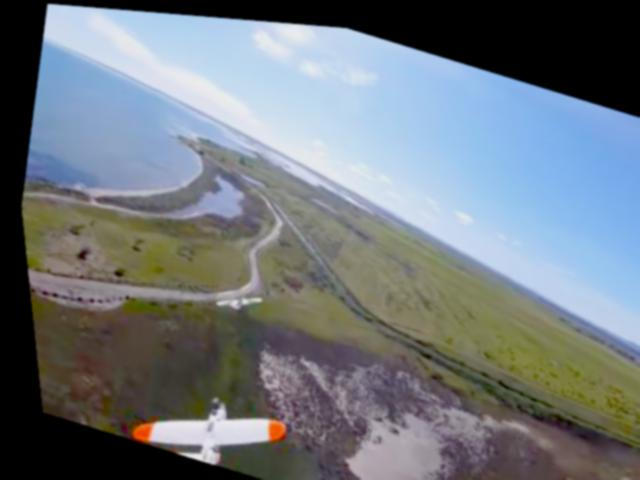uav: (114, 364, 284, 480)
